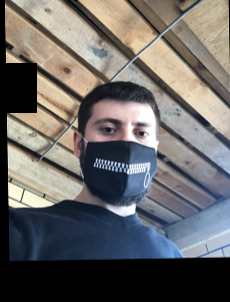with_mask: (83, 109, 157, 207)
